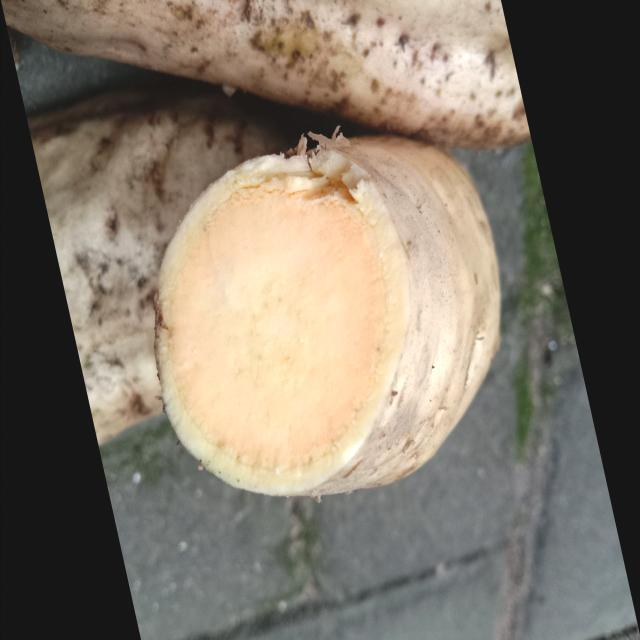Healthy Sweet Potato: (155, 137, 408, 495)
